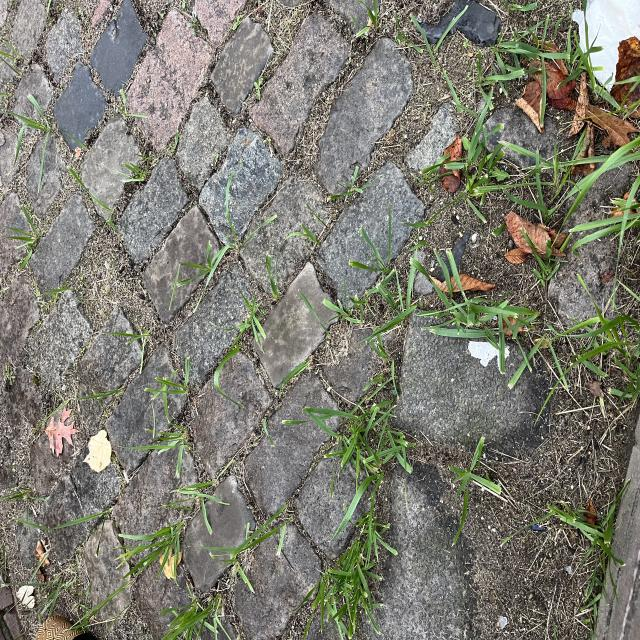weed: (5, 308, 350, 411)
